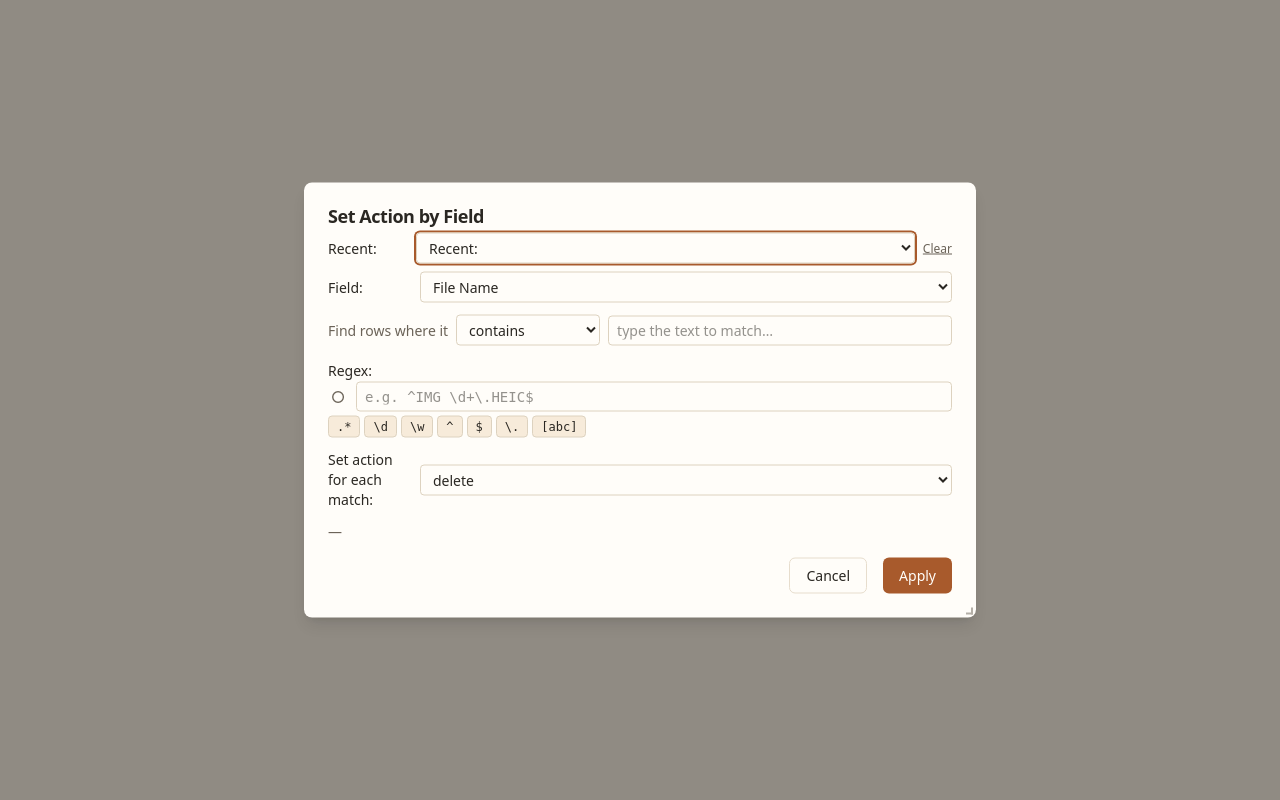
Test case: ActionDialog › Clear removes all recent entries and persists the empty list
Click the button with test id "action-recent-clear" at point(937, 248), box [923, 240, 952, 256]
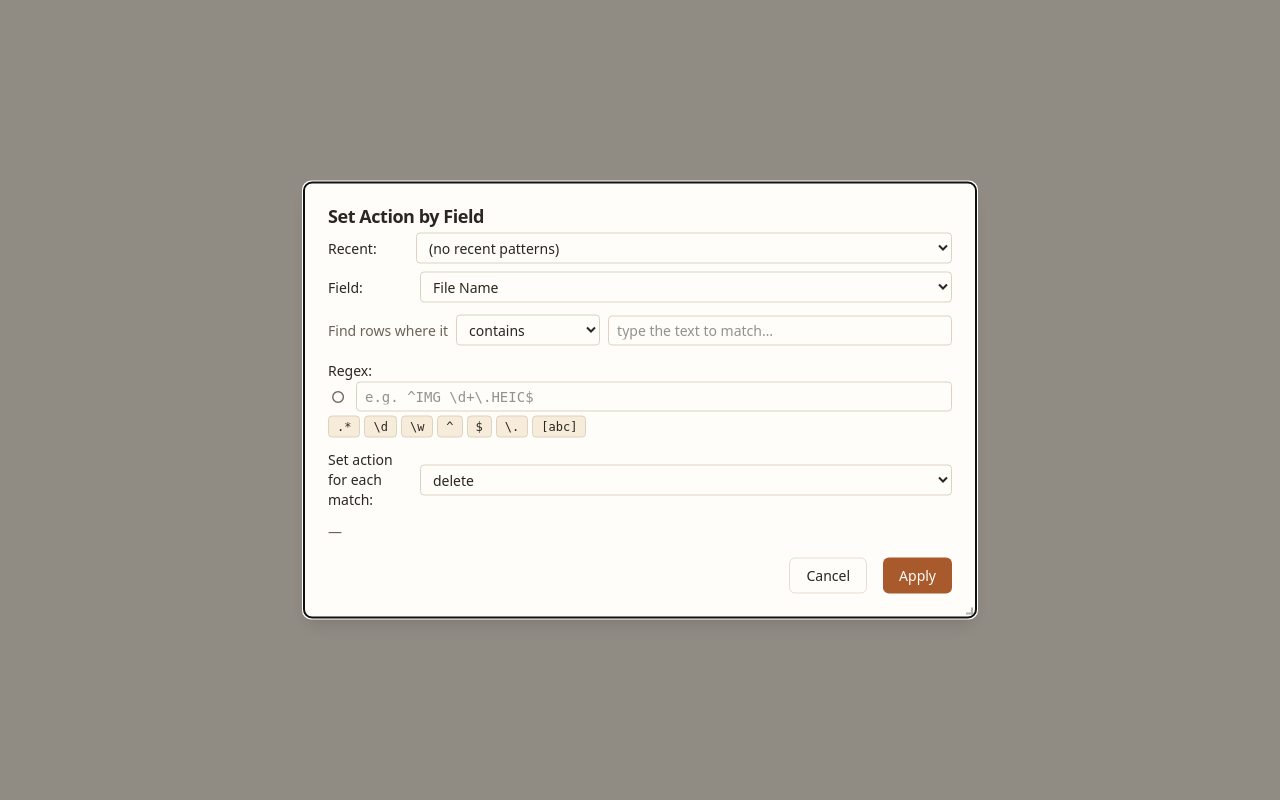
Expected: the button with test id "action-recent-clear" is gone
